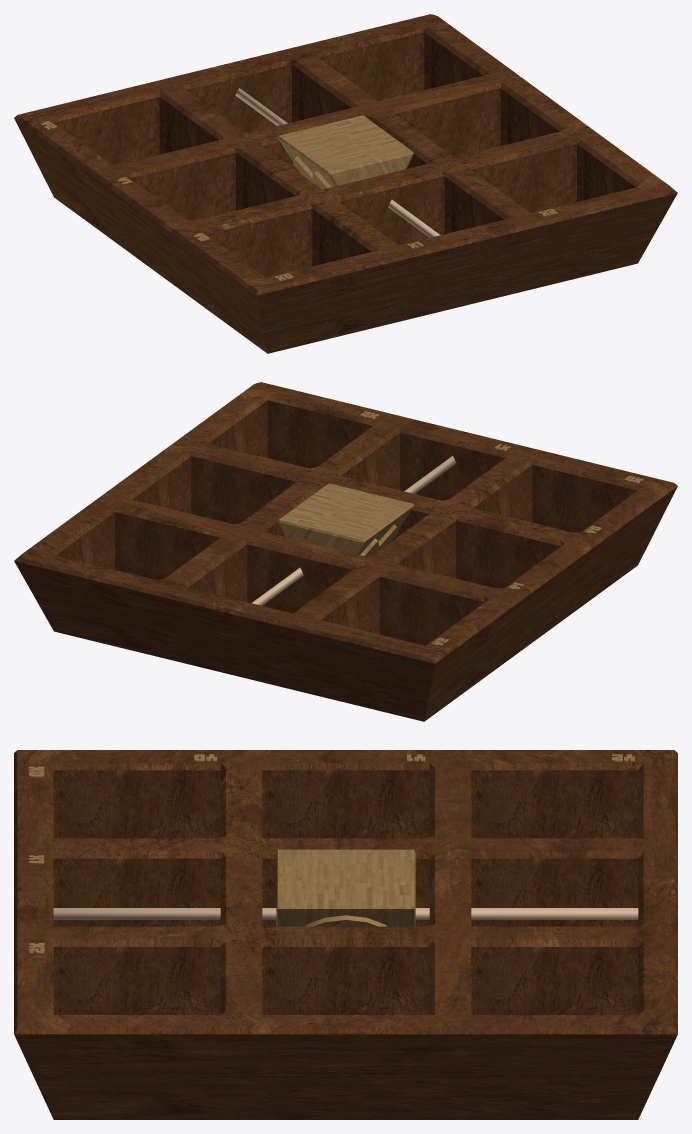
The model's file is tic-tac-toe.glb.
3 renders of one model, top to bottom at view 1: azimuth 30°, elevation 25°; view 2: azimuth 150°, elevation 25°; view 3: azimuth 270°, elevation 25°, orthographic. The views are drawn at different scales.
Parts seen in each view (by area): view 1: Box, BoxSide4, BoxSide3, BlockMesh, RodMesh, Labels; view 2: Box, BoxSide1, BoxSide3, BlockMesh, RodMesh, Labels; view 3: Box, BoxSide2, BlockMesh, RodMesh, Labels, OMesh.
Part boxes in pixels (<box>): Box: <box>14,14,677,295</box>; BoxSide4: <box>257,193,677,353</box>; BoxSide3: <box>14,118,267,353</box>; BlockMesh: <box>278,115,413,186</box>; RodMesh: <box>235,88,440,237</box>; Labels: <box>40,121,558,280</box>; Box: <box>14,382,677,663</box>; BoxSide1: <box>14,561,434,721</box>; BoxSide3: <box>424,486,677,721</box>; BlockMesh: <box>278,483,413,554</box>; RodMesh: <box>251,456,456,605</box>; Labels: <box>360,411,643,645</box>; Box: <box>14,750,677,1034</box>; BoxSide2: <box>14,1034,677,1119</box>; BlockMesh: <box>276,849,415,926</box>; RodMesh: <box>53,908,638,919</box>; Labels: <box>29,754,634,953</box>; OMesh: <box>305,915,386,926</box>.
Size of the model in its own units: 9.56 by 1.88 by 9.54.
Materials: 3 (2 with a texture image).
